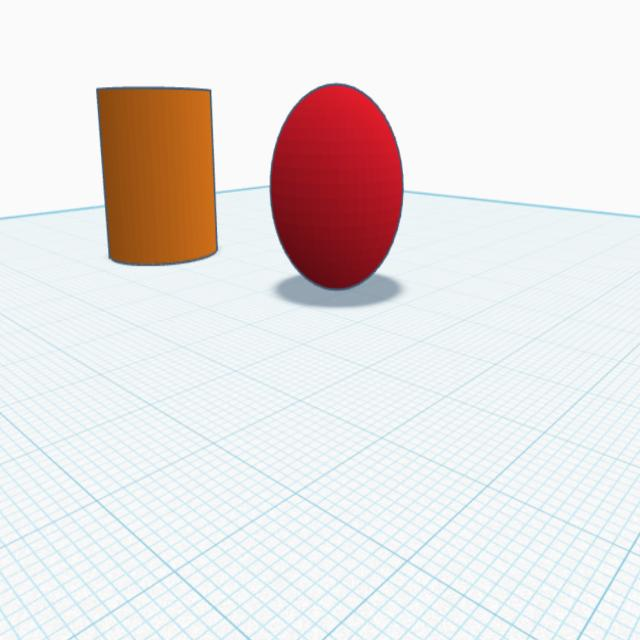sphere: (265, 75, 407, 296)
